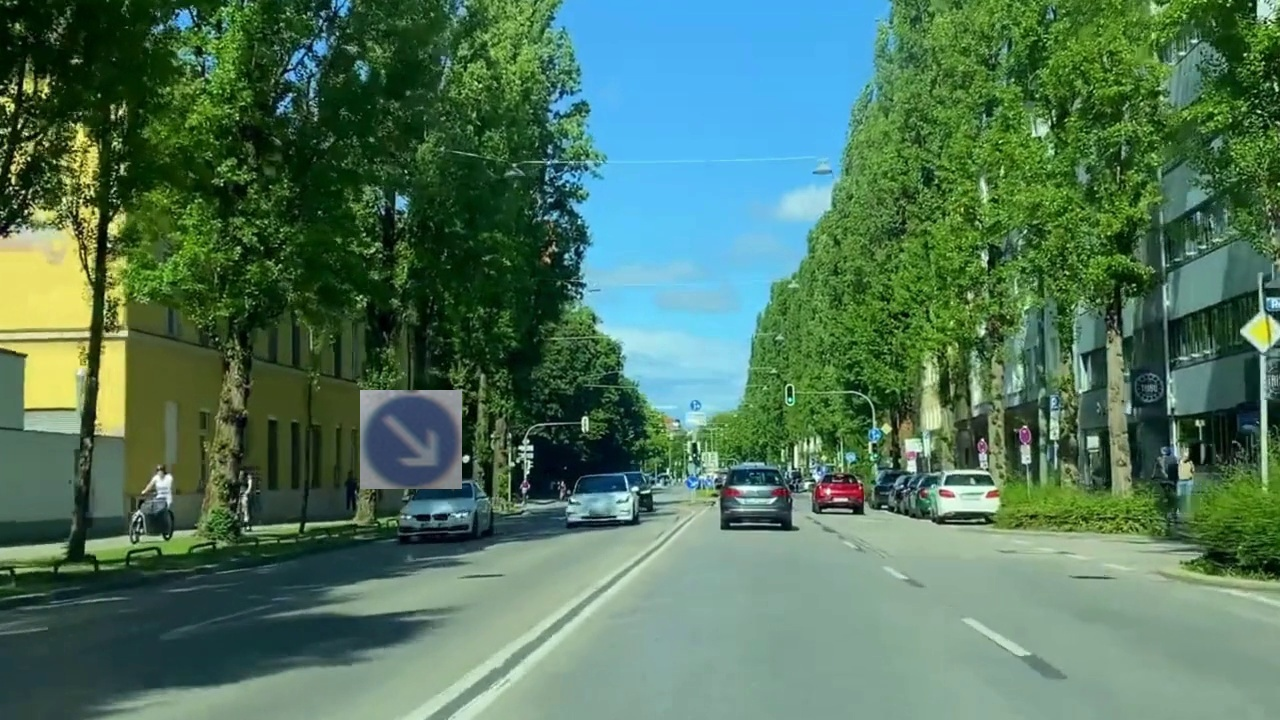Keep right: (360, 390, 462, 489)
